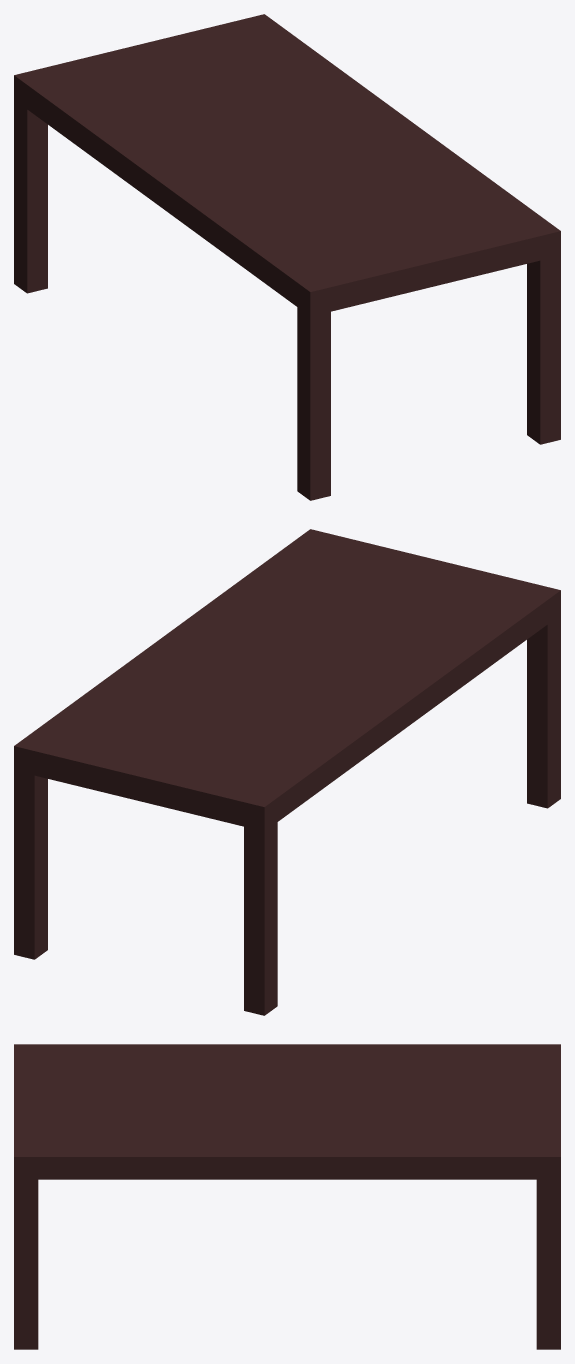
File: TableDone.fbx
The picture shows the model from 3 angles, top to bottom: view 1: azimuth 30°, elevation 25°; view 2: azimuth 150°, elevation 25°; view 3: azimuth 270°, elevation 25°; orthographic projection. The views are drawn at different scales.
Parts seen in each view (by area): view 1: Top, Legs; view 2: Top, Legs; view 3: Top, Legs.
Boxes of the visible parts, x1=… form: Top: x1=14, y1=14, x2=560, y2=316; Legs: x1=14, y1=100, x2=560, y2=500; Top: x1=14, y1=529, x2=560, y2=831; Legs: x1=14, y1=615, x2=560, y2=1015; Top: x1=14, y1=1044, x2=560, y2=1179; Legs: x1=14, y1=1179, x2=560, y2=1349.
Bounding box in the file's own units: 313 × 249 × 641.
